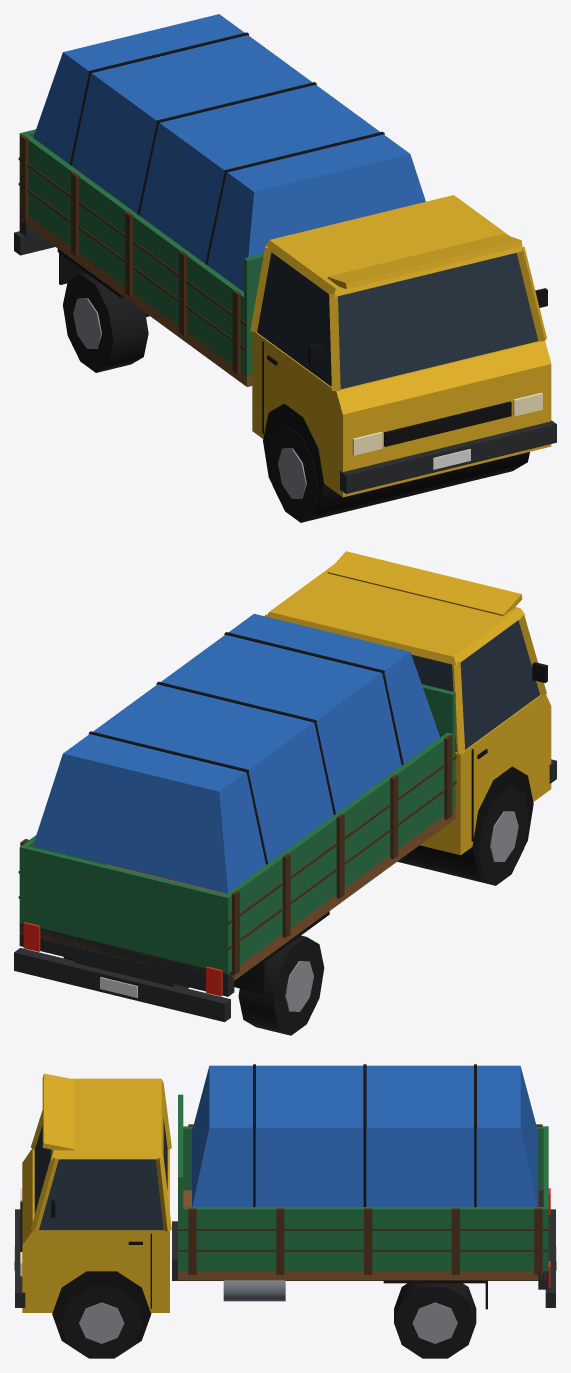
The model's file is truk.glb.
The picture shows the model from 3 angles, top to bottom: view 1: azimuth 30°, elevation 25°; view 2: azimuth 150°, elevation 25°; view 3: azimuth 270°, elevation 25°; orthographic projection. The views are drawn at different scales.
Visible parts, largest first — view 1: body, wheel_rr, wheel_fr; view 2: body, wheel_rr, wheel_fr; view 3: body, wheel_rl, wheel_fl.
Part boxes in pixels (<box>): body: <box>14,14,556,522</box>; wheel_rr: <box>63,273,148,372</box>; wheel_fr: <box>267,424,318,522</box>; body: <box>14,551,556,1022</box>; wheel_rr: <box>238,935,324,1035</box>; wheel_fr: <box>478,787,528,885</box>; body: <box>14,1064,556,1356</box>; wheel_rl: <box>394,1283,476,1358</box>; wheel_fl: <box>60,1287,142,1358</box>.
Bounding box in the file's own units: 2.16 × 2.36 × 5.26.
1 material, 1 textured.
